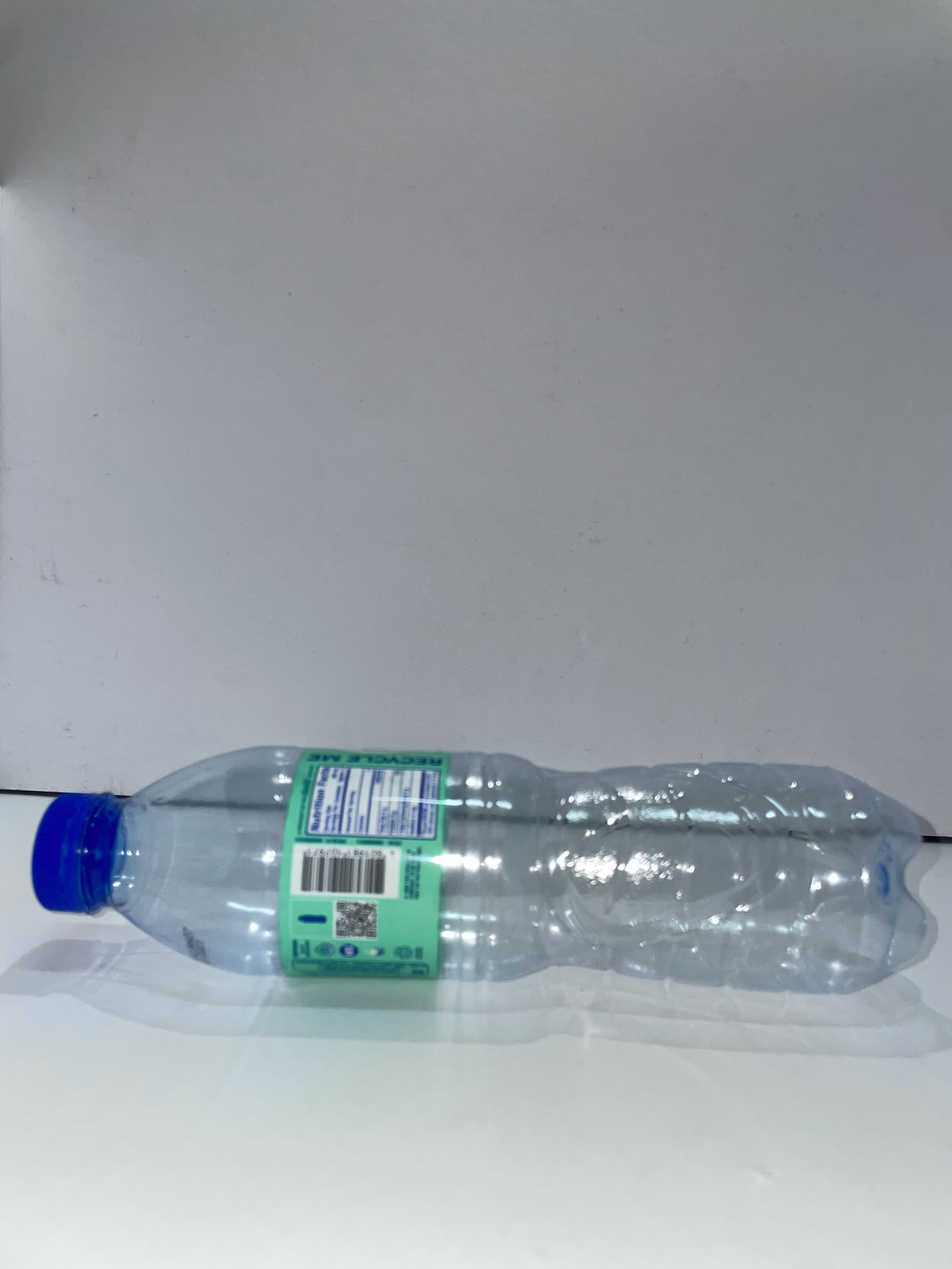wilkins pure 500ml: (32, 747, 926, 993)
